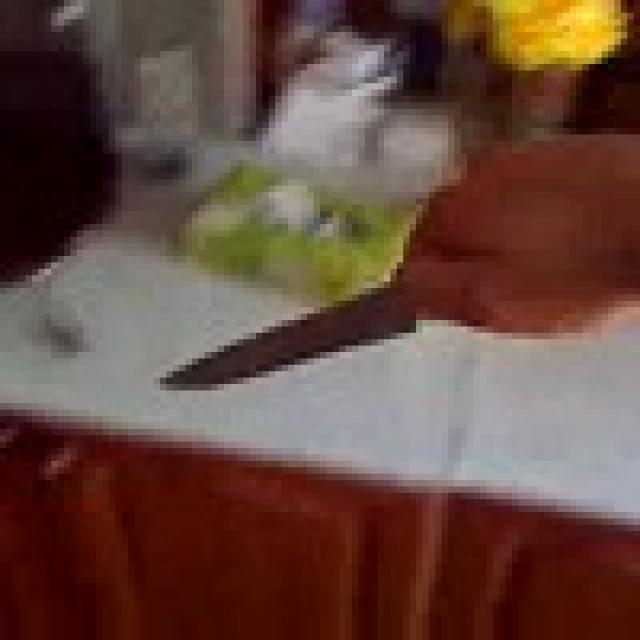Knife: (147, 250, 435, 410)
